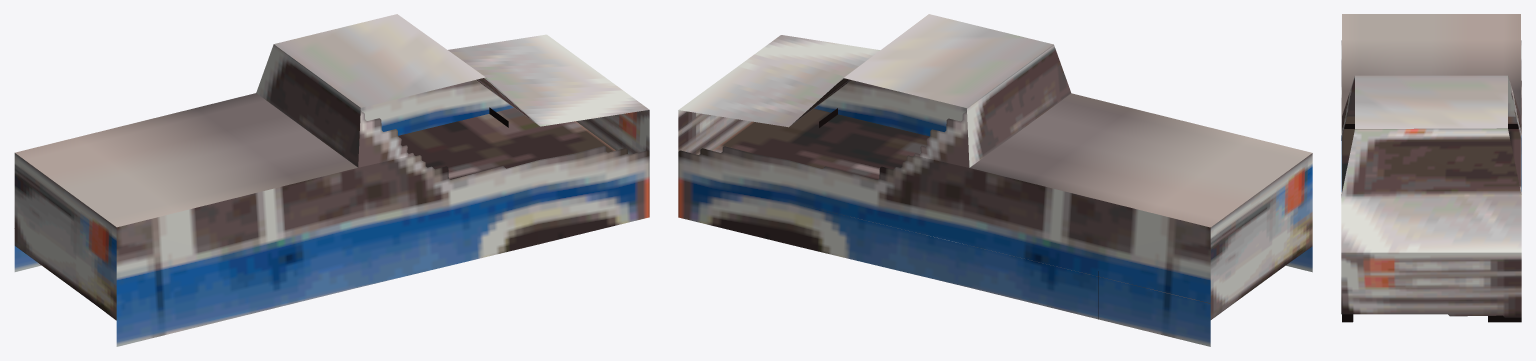
File: _PICKUP.obj
3 views of the same model, side by side, from view 1: azimuth 30°, elevation 25°; view 2: azimuth 150°, elevation 25°; view 3: azimuth 270°, elevation 25° (orthographic). The views are drawn at different scales.
Size of the model in its own units: 741 by 230 by 248.
Materials: 1 (1 with a texture image).
